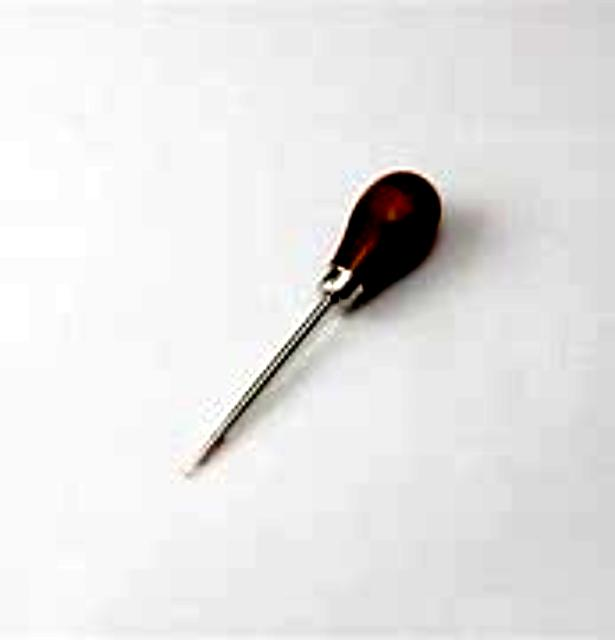ice pick: (189, 164, 452, 484)
